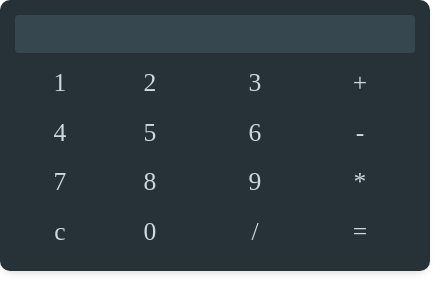
Test case: Calculator › Simple operations › should work on addition
Click the button "3": coordinates (255, 83) [210, 58, 300, 108]
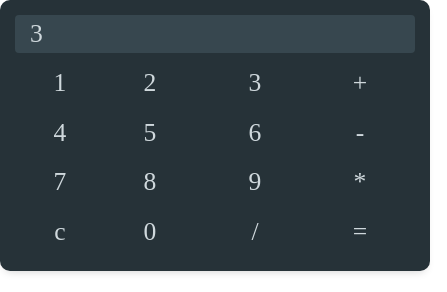
Check: the text with class "output" reads "3", box [30, 19, 43, 48]
Click the button "+": coordinates (360, 83) [315, 58, 405, 108]
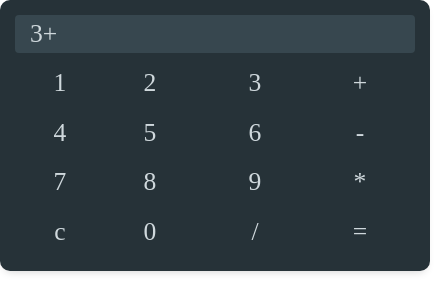
Check: the text with class "output" reads "3+", box [30, 19, 57, 48]
Click the button "5": coordinates (150, 132) [105, 108, 195, 157]
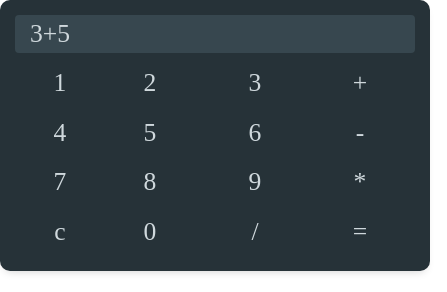
Check: the text with class "output" reads "3+5", box [30, 19, 70, 48]
Click the button "=": coordinates (360, 231) [315, 207, 405, 256]
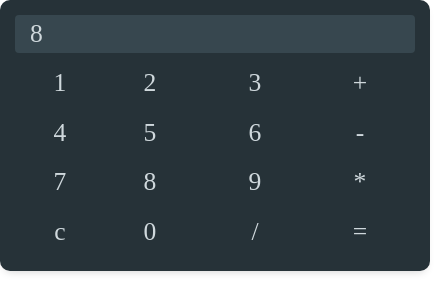
Check: the text with class "output" reads "8", box [30, 19, 43, 48]
